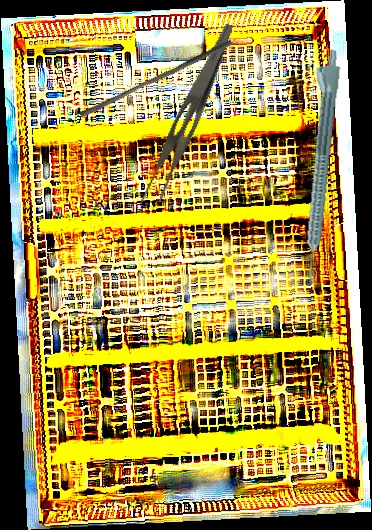Dressing Forceps: (135, 15, 236, 214)
Handpiece: (292, 46, 343, 282)
Pusher: (78, 33, 234, 124)
